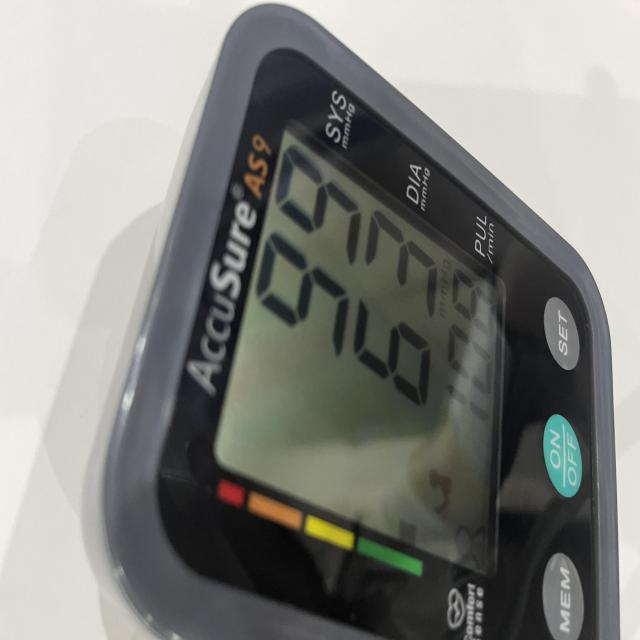bp: (70, 6, 624, 640)
